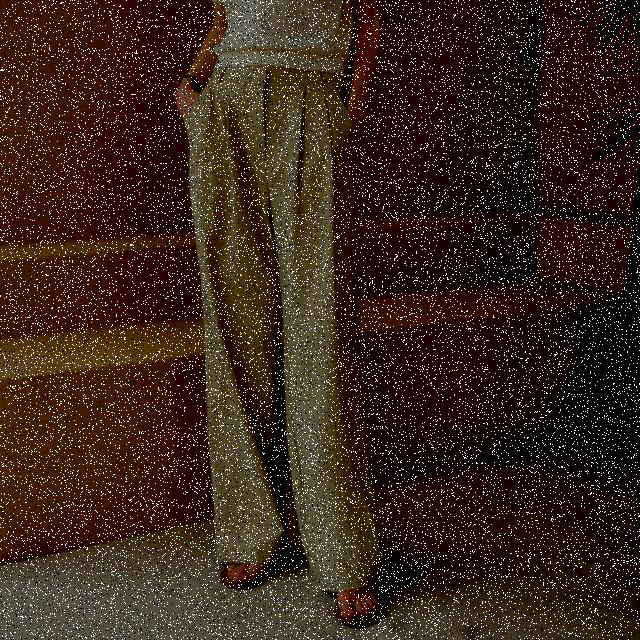dress: (187, 65, 378, 593)
